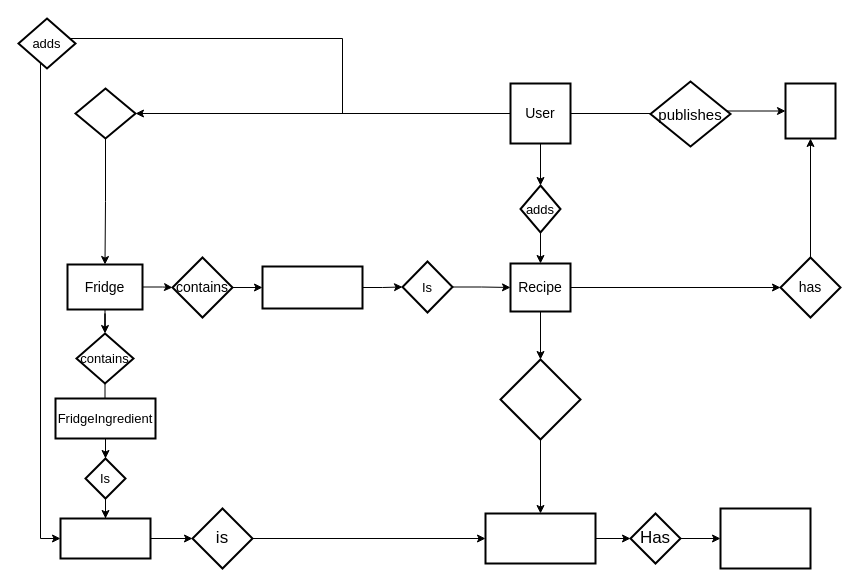
This 858x586 diagram has some shape labels left out. The shapes that lost their labels are listed below. From the top down, each one's box as (x1, y1, x2, y2) in pixels, then its label:
(74, 87, 136, 139): owns
(784, 82, 836, 139): Rating
(261, 265, 363, 309): FridgeRecipe
(499, 358, 581, 440): is made of
(59, 517, 151, 559): Ingredient
(484, 512, 596, 564): RecipeIngredient
(719, 507, 811, 569): Quantity
